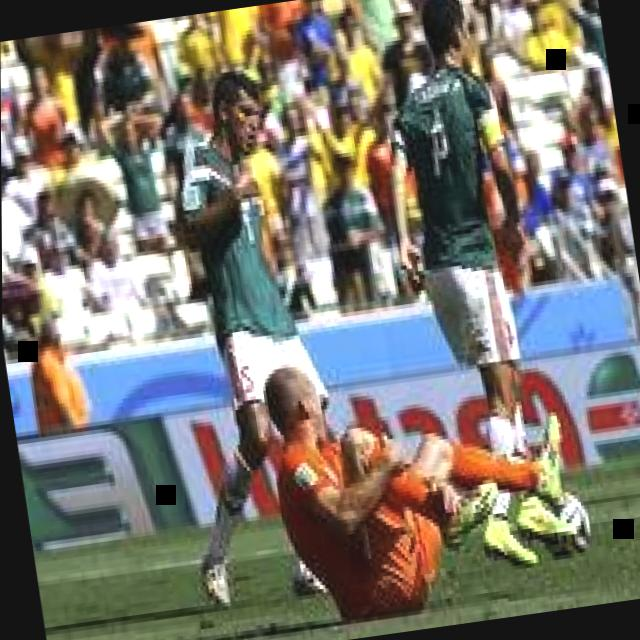Fall-Detected: (234, 304, 616, 626)
